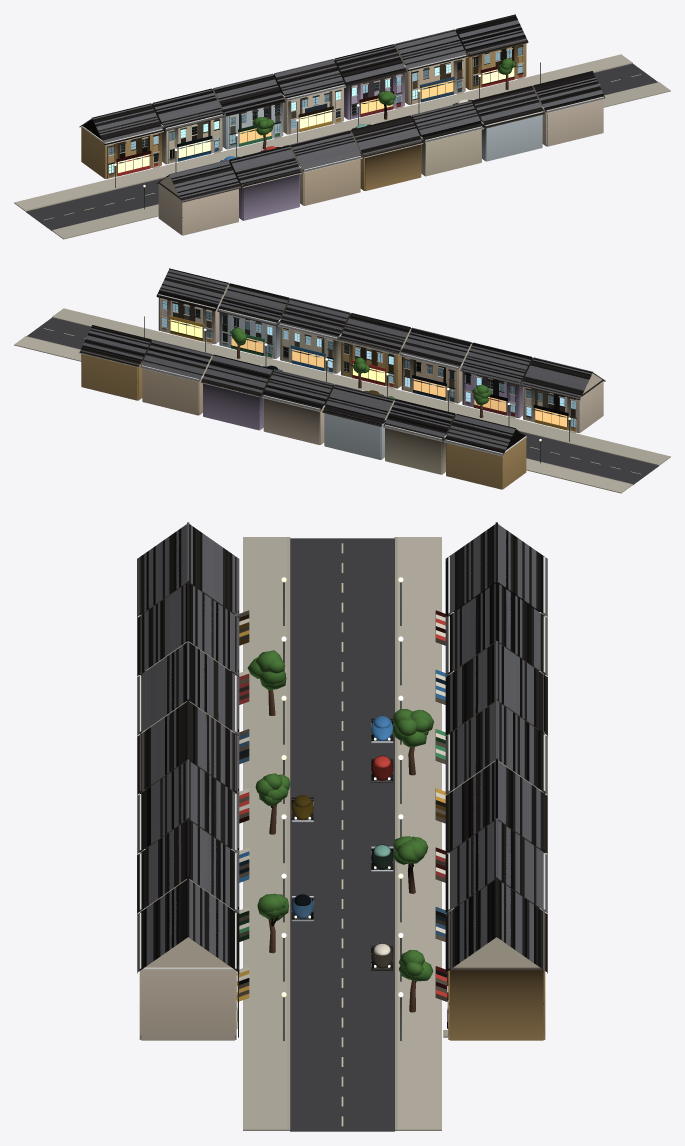
File: street.glb
The picture shows the model from 3 angles, top to bottom: view 1: azimuth 30°, elevation 25°; view 2: azimuth 150°, elevation 25°; view 3: azimuth 270°, elevation 25°; orthographic projection. The views are drawn at different scales.
Parts seen in each view (by area): view 1: street.roof.19, street.pave.3, street.plaster.31, street.plaster.16, street.pave.0, street.plaster.37, street.plaster.25, street.plaster.34, street.plaster.28, street.paint.5, street.emit.8, street.paint.20 (+7 smaller); view 2: street.roof.19, street.pave.3, street.plaster.16, street.plaster.31, street.pave.0, street.plaster.37, street.plaster.25, street.plaster.28, street.plaster.34, street.paint.5, street.emit.8, street.paint.20 (+8 smaller); view 3: street.roof.19, street.pave.0, street.pave.3, street.plaster.16, street.plaster.31, street.leaf.51, street.paint.5, street.stone.2, street.plaster.21, street.fabric.11, street.bark.50, street.metal.48 (+1 smaller).
Part boxes in pixels (bbox=[...]): street.roof.19: bbox=[79, 14, 605, 201]; street.pave.3: bbox=[14, 54, 670, 239]; street.plaster.31: bbox=[158, 88, 603, 235]; street.plaster.16: bbox=[81, 43, 526, 190]; street.pave.0: bbox=[26, 63, 657, 230]; street.plaster.37: bbox=[300, 58, 465, 205]; street.plaster.25: bbox=[162, 117, 481, 176]; street.plaster.34: bbox=[239, 73, 404, 220]; street.plaster.28: bbox=[222, 103, 542, 161]; street.paint.5: bbox=[81, 40, 603, 200]; street.emit.8: bbox=[118, 67, 514, 172]; street.paint.20: bbox=[79, 42, 605, 202]; street.roof.19: bbox=[79, 268, 605, 455]; street.pave.3: bbox=[14, 308, 670, 493]; street.plaster.16: bbox=[81, 342, 526, 489]; street.plaster.31: bbox=[158, 298, 603, 444]; street.pave.0: bbox=[27, 317, 658, 484]; street.plaster.37: bbox=[142, 357, 462, 415]; street.plaster.25: bbox=[280, 327, 445, 474]; street.plaster.28: bbox=[219, 312, 384, 459]; street.plaster.34: bbox=[203, 371, 522, 430]; street.paint.5: bbox=[81, 294, 603, 454]; street.emit.8: bbox=[170, 319, 566, 426]; street.paint.20: bbox=[79, 296, 605, 456]; street.roof.19: bbox=[137, 522, 547, 972]; street.pave.0: bbox=[290, 538, 394, 1131]; street.pave.3: bbox=[243, 537, 441, 1130]; street.plaster.16: bbox=[139, 614, 545, 1040]; street.plaster.31: bbox=[139, 614, 545, 1040]; street.leaf.51: bbox=[247, 650, 433, 981]; street.paint.5: bbox=[139, 557, 545, 970]; street.stone.2: bbox=[287, 537, 397, 1130]; street.plaster.21: bbox=[145, 582, 539, 967]; street.fabric.11: bbox=[237, 610, 447, 1001]; street.bark.50: bbox=[268, 690, 416, 1012]; street.metal.48: bbox=[283, 582, 401, 1040].
Bounding box in the file's own units: 120 × 10.07 × 35.15.
